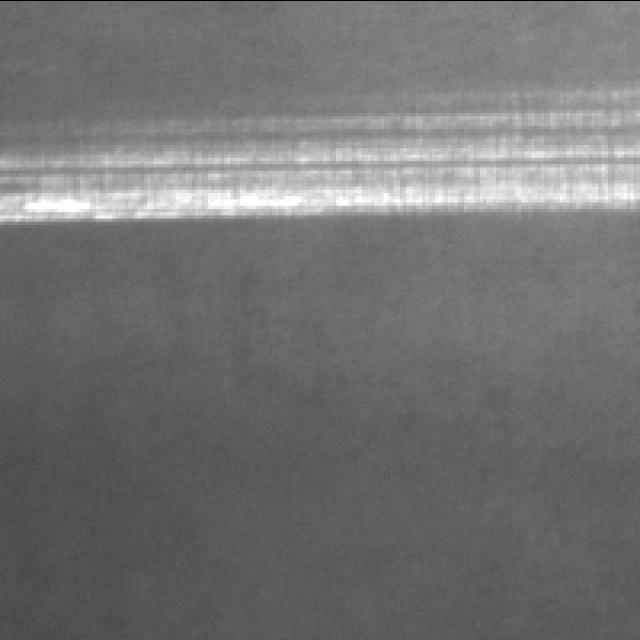scratches: (0, 106, 640, 212)
